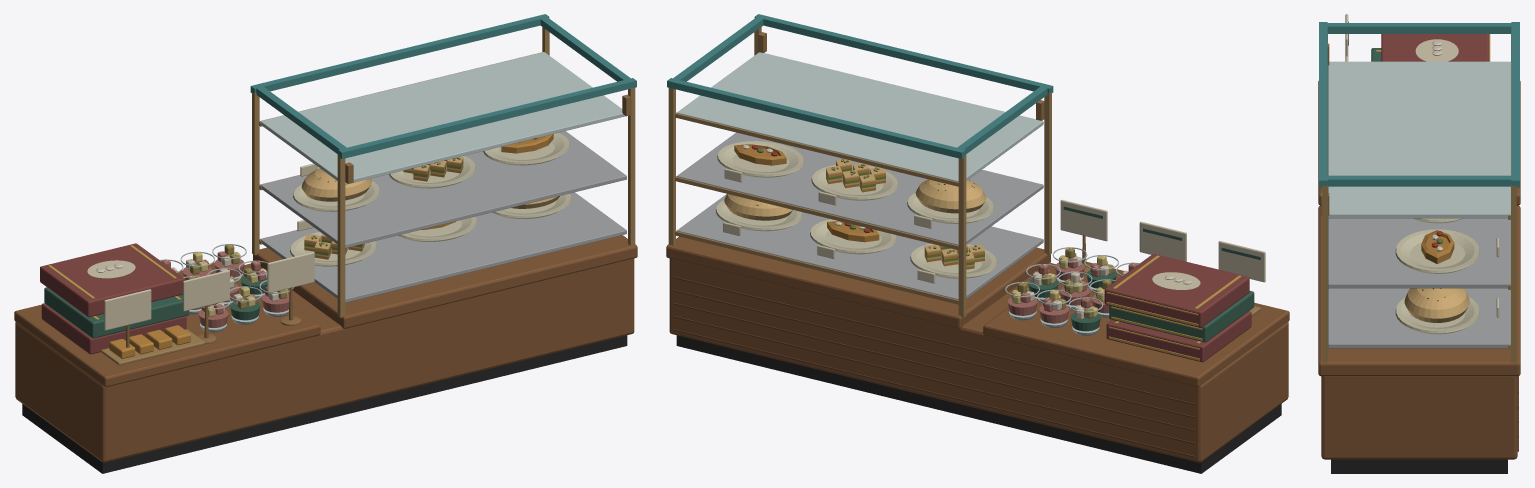
Rendered from showcase.glb.
3 renders of one model, left to right at view 1: azimuth 30°, elevation 25°; view 2: azimuth 150°, elevation 25°; view 3: azimuth 270°, elevation 25°, orthographic. The views are drawn at different scales.
Parts seen in each view (by area): view 1: KervanShowcase; view 2: KervanShowcase; view 3: KervanShowcase.
Part boxes in pixels (left/top/right/bottom): KervanShowcase: left=14, top=14, right=637, bottom=473; KervanShowcase: left=666, top=14, right=1289, bottom=473; KervanShowcase: left=1318, top=14, right=1520, bottom=473.
Bounding box in the file's own units: 3.46 × 1.66 × 1.03.
